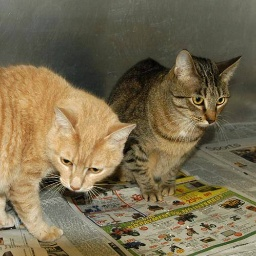cat: (2, 37, 240, 253)
